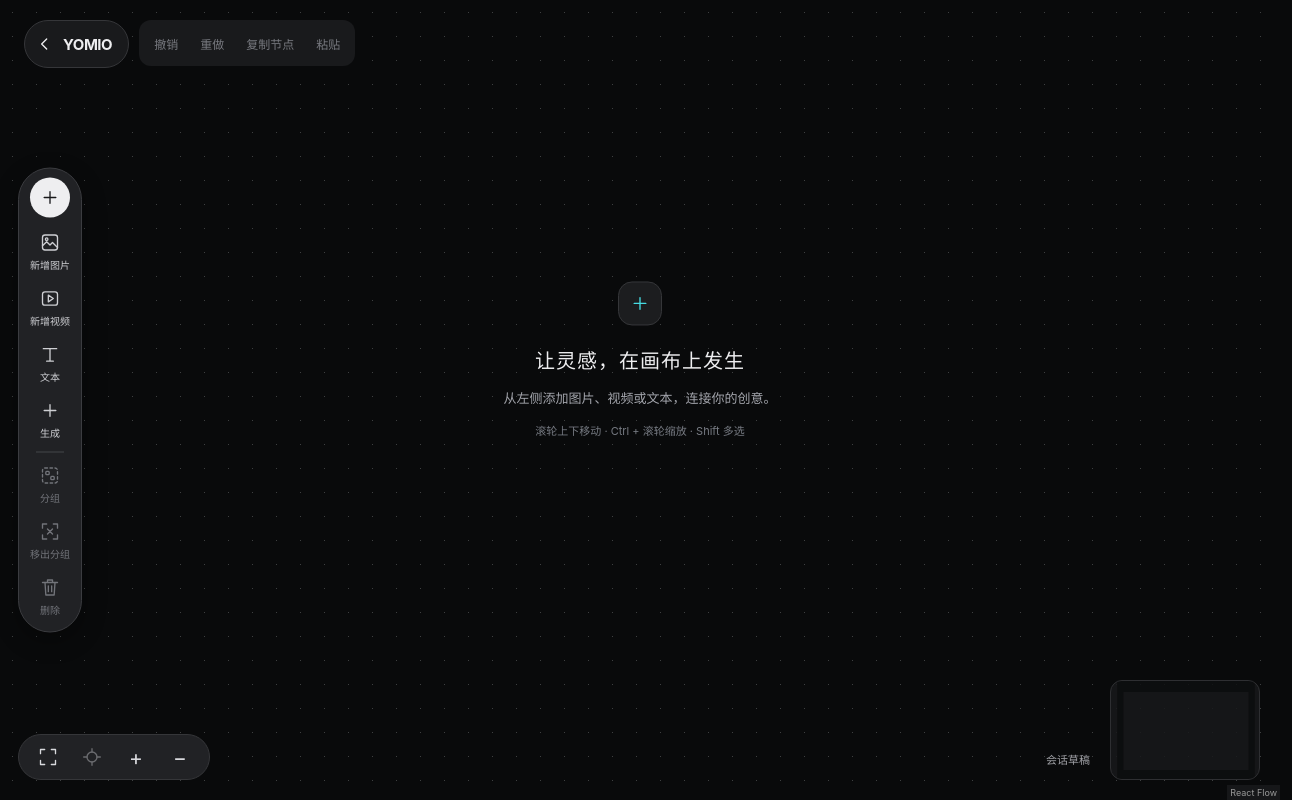
Test: CanvasWorkspace › 拒绝没有直连非空提示词的提交
Click the button with aria-label "新增生成占位节点" at (50, 420), box [25, 394, 75, 446]
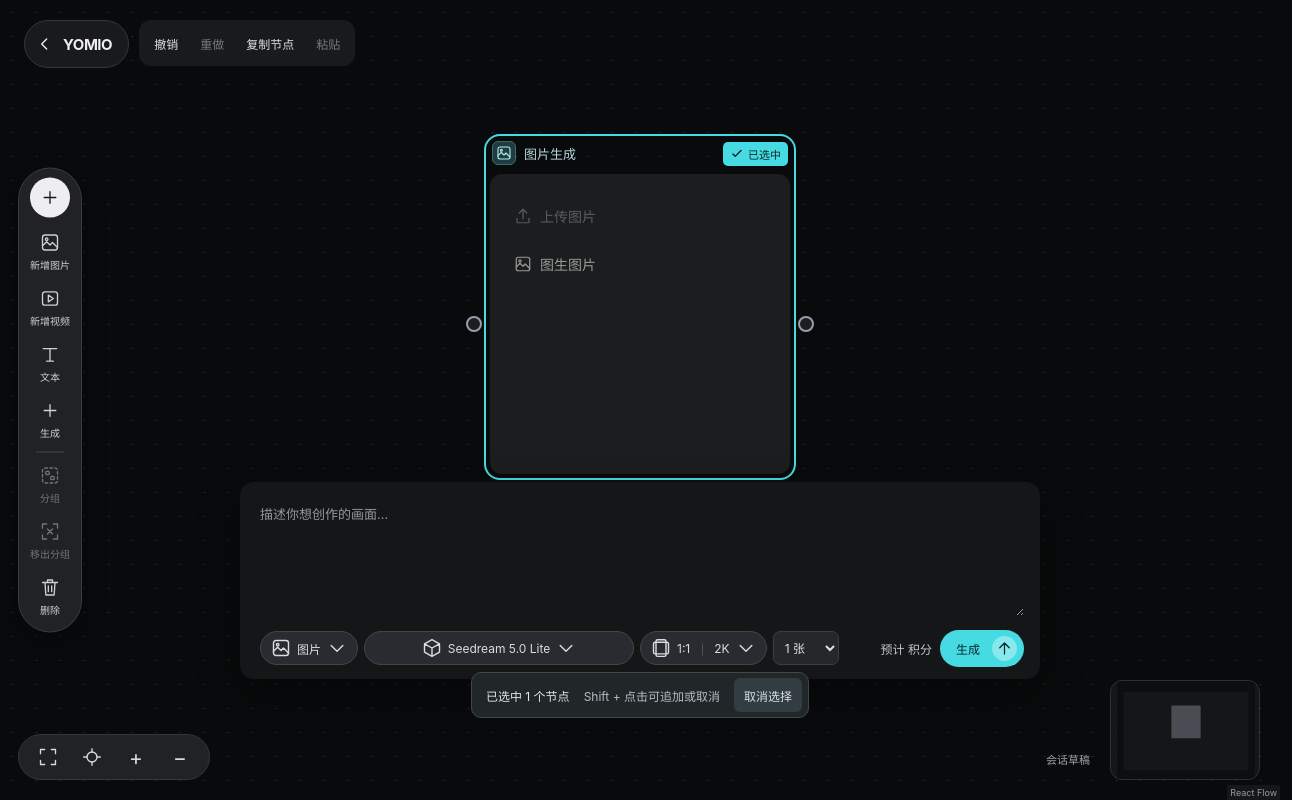
Expected: the button with aria-label "提交生成任务" is enabled
Click the button with aria-label "提交生成任务" at (982, 648), box [940, 630, 1024, 666]
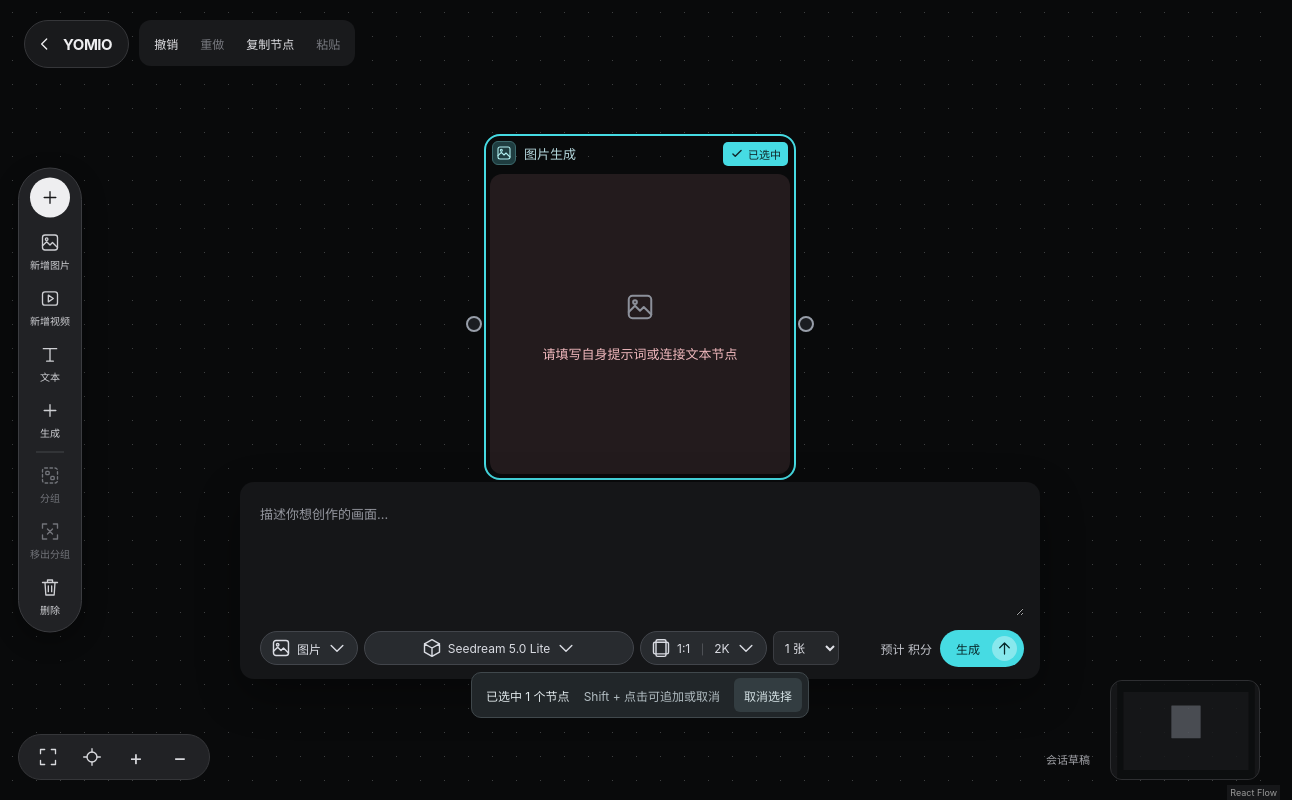
Expected: the text "请填写自身提示词或连接文本节点" is shown, [542, 344, 738, 364]
